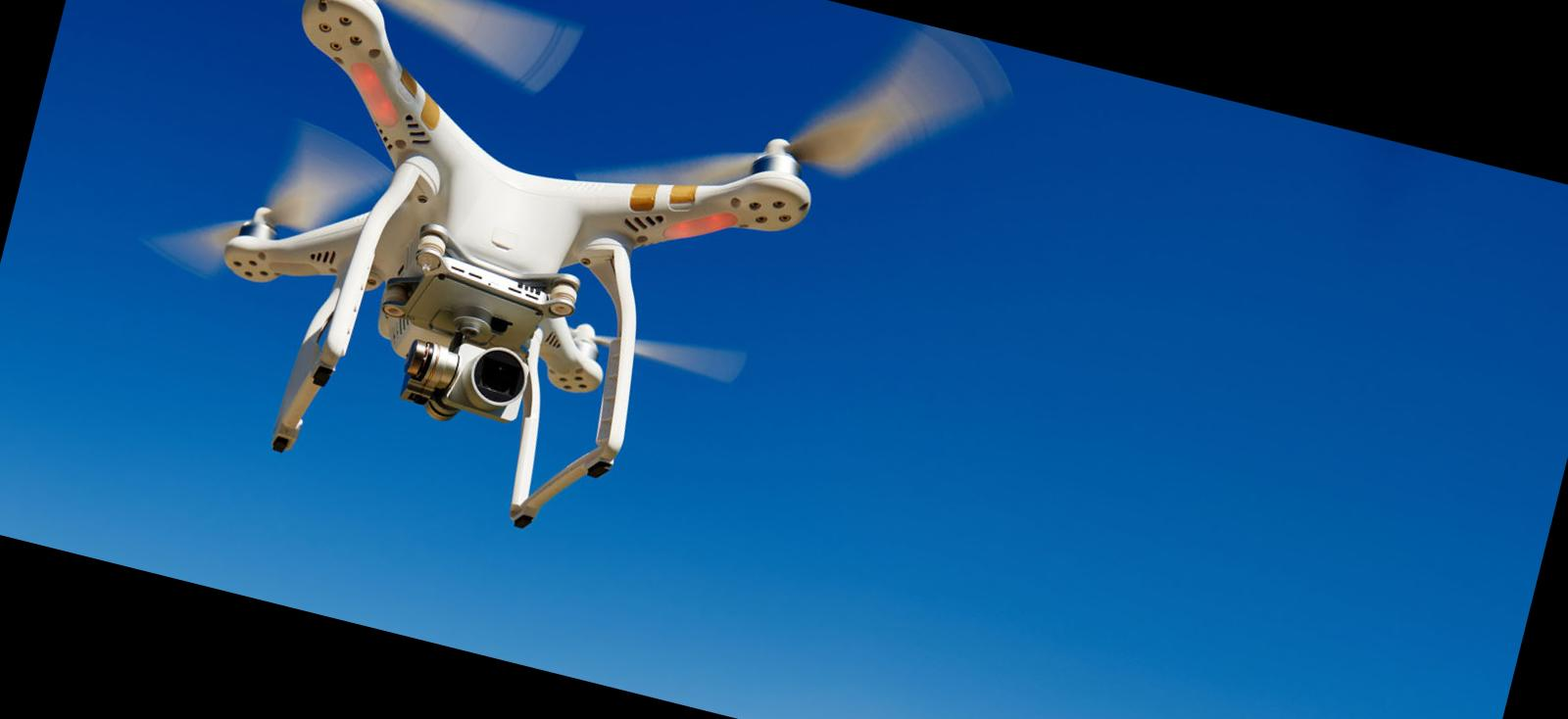drone: (67, 0, 1015, 534)
